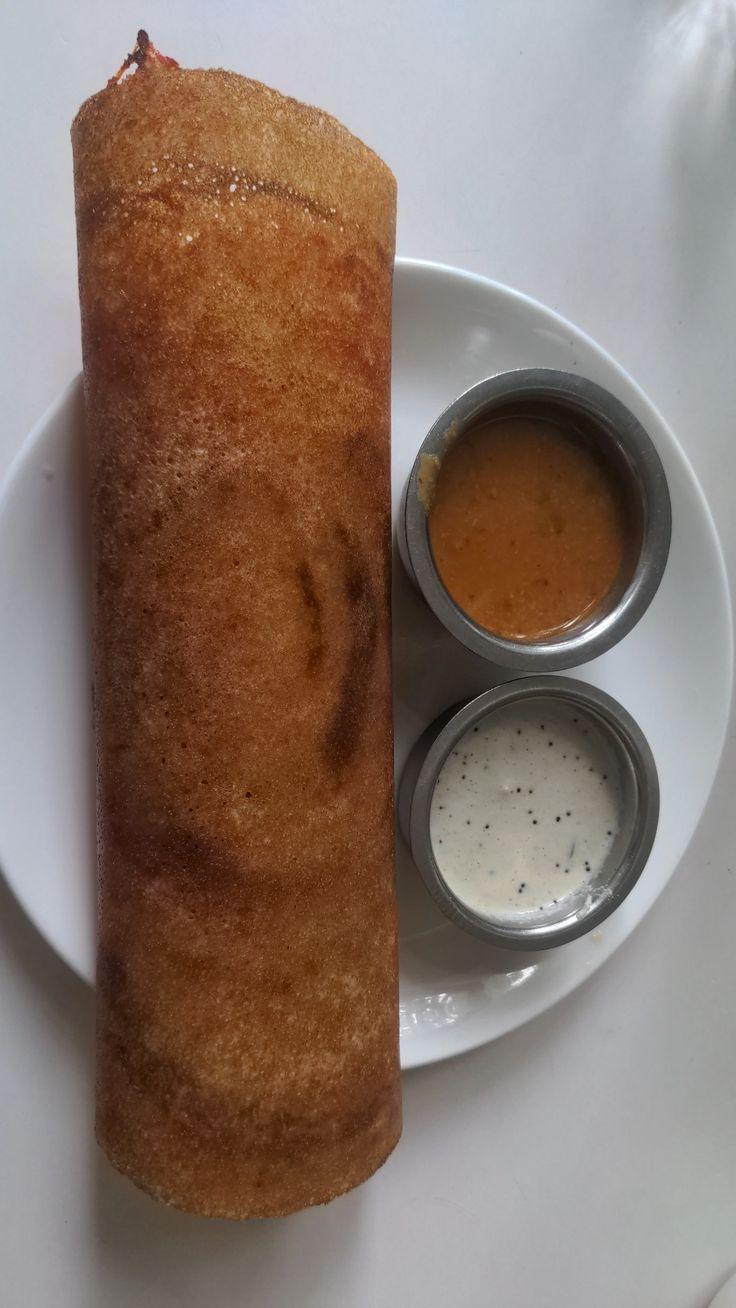dosa: (24, 44, 446, 1212)
